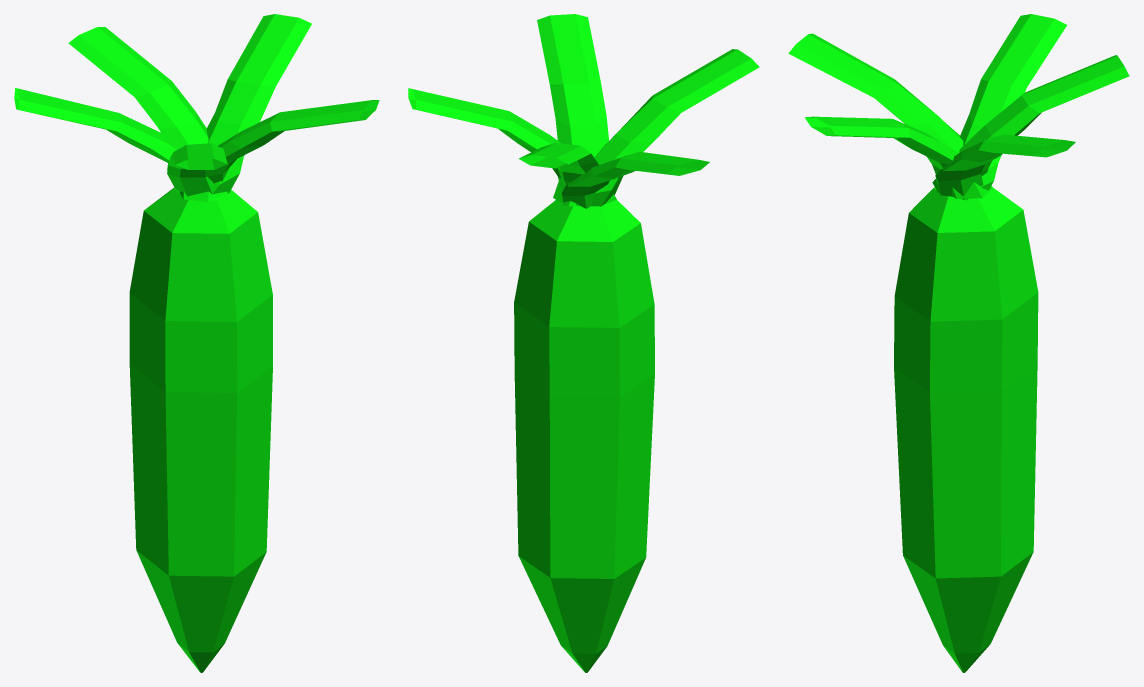
Rendered from carrot.obj.
3 views of the same model, side by side, from view 1: azimuth 30°, elevation 25°; view 2: azimuth 150°, elevation 25°; view 3: azimuth 270°, elevation 25° (orthographic). The views are drawn at different scales.
Parts seen in each view (by area): view 1: carrot_Cylinder; view 2: carrot_Cylinder; view 3: carrot_Cylinder.
Boxes of the visible parts, x1,y1,x2,y2 form: carrot_Cylinder: (14,14,379,672); carrot_Cylinder: (408,14,759,672); carrot_Cylinder: (788,14,1129,672).
Bounding box in the file's own units: 4.02 × 7.62 × 3.94.
Materials: 1 (1 with a texture image).
